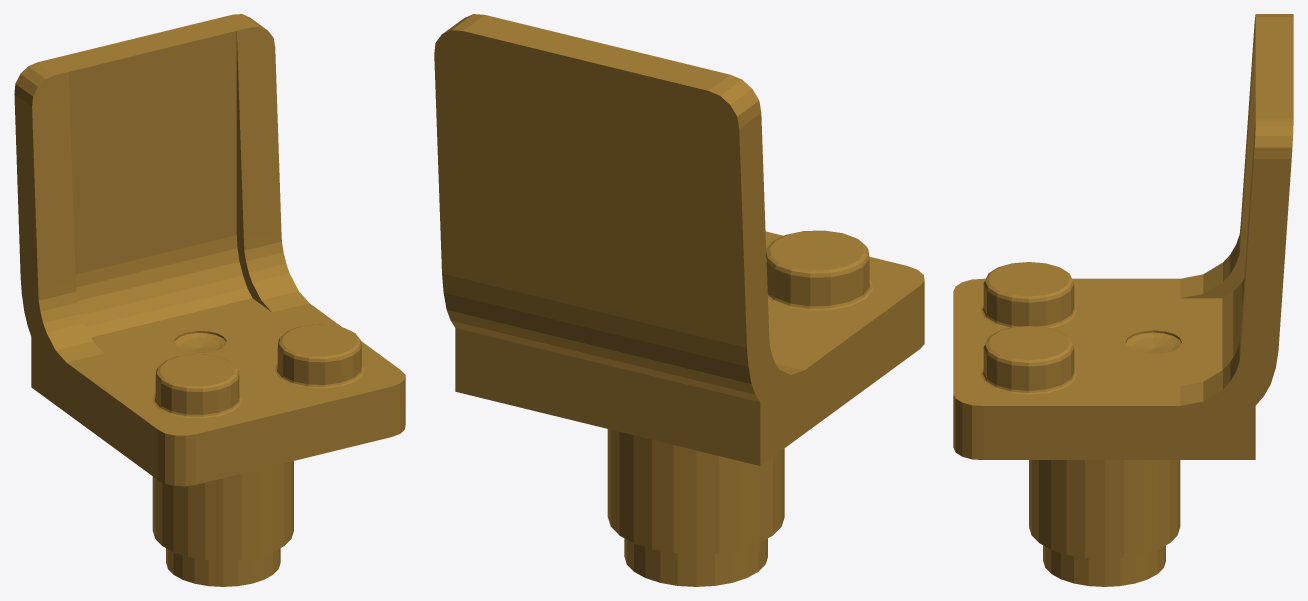
Rendered from Chair1.dae.
3 views of the same model, side by side, from view 1: azimuth 30°, elevation 25°; view 2: azimuth 150°, elevation 25°; view 3: azimuth 270°, elevation 25° (orthographic). The views are drawn at different scales.
Parts seen in each view (by area): view 1: Part.0, Part.1; view 2: Part.0, Part.1; view 3: Part.0, Part.1.
Boxes of the visible parts, left/top/right/bottom form: Part.0: left=14, top=14, right=405, bottom=486; Part.1: left=152, top=461, right=293, bottom=586; Part.0: left=434, top=14, right=924, bottom=465; Part.1: left=607, top=429, right=784, bottom=586; Part.0: left=953, top=14, right=1293, bottom=459; Part.1: left=1029, top=460, right=1180, bottom=586.
Bounding box in the file's own units: 15.92 × 28.76 × 18.
